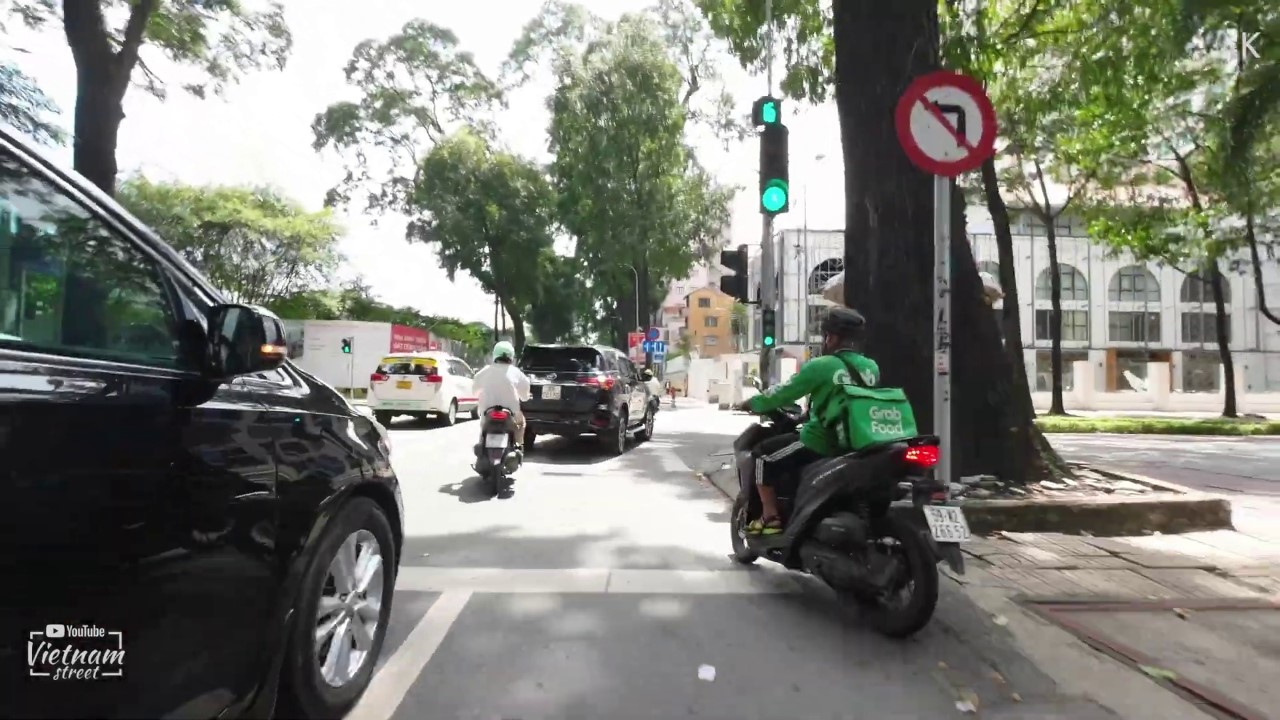cam_re_trai: (893, 71, 997, 175)
